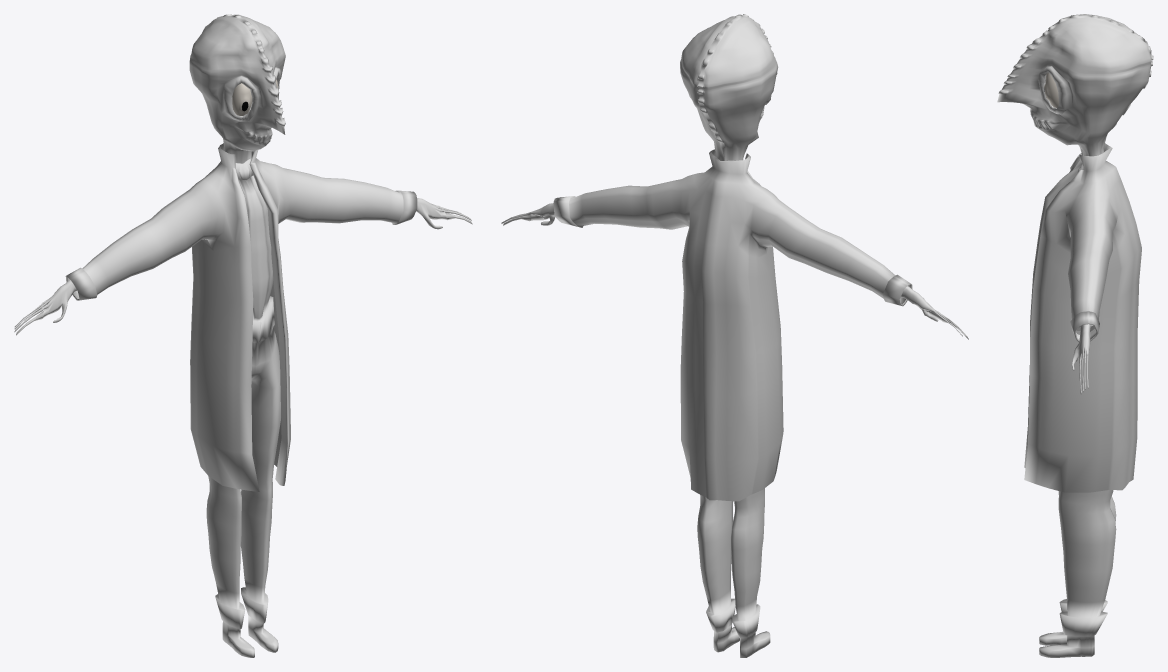
The model's file is Doctor.fbx.
The picture shows the model from 3 angles, left to right: view 1: azimuth 30°, elevation 25°; view 2: azimuth 150°, elevation 25°; view 3: azimuth 270°, elevation 25°; orthographic projection. The views are drawn at different scales.
Parts seen in each view (by area): view 1: HighPoly; view 2: HighPoly; view 3: HighPoly, Sphere.
Boxes of the visible parts, box(x1,y1,x2,y2) form: HighPoly: box(14, 14, 472, 657); HighPoly: box(501, 14, 968, 657); HighPoly: box(997, 14, 1153, 657); Sphere: box(1044, 72, 1058, 107).
Bounding box in the file's own units: 76.28 × 98.85 × 22.11.
